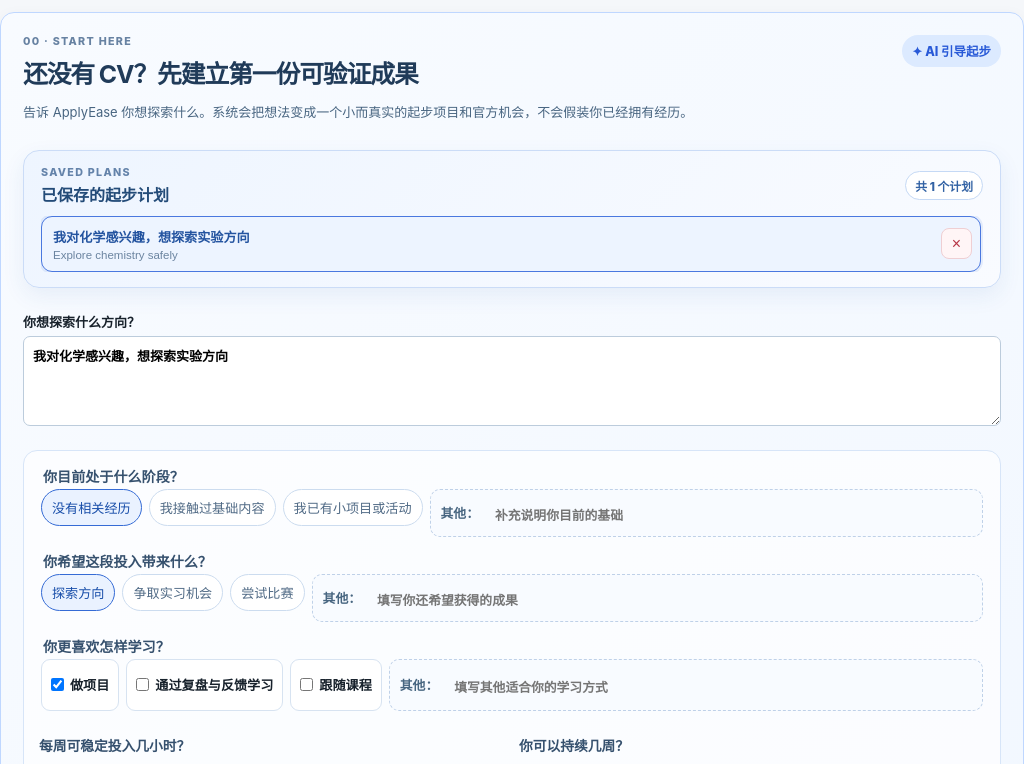
ResourcePlanPage › keeps multiple generated starter plans in the folder and supports deletion
The width and height of the screenshot is (1024, 764).
Check: the text "我对化学感兴趣，想探索实验方向" is shown, box [53,230,250,244]
Replace the text in the text box labelled "你想探索什么方向？" with "我对数学建模感兴趣，想从基础开始" at (512, 380), box [23,336,1001,426]
(page scrolled)
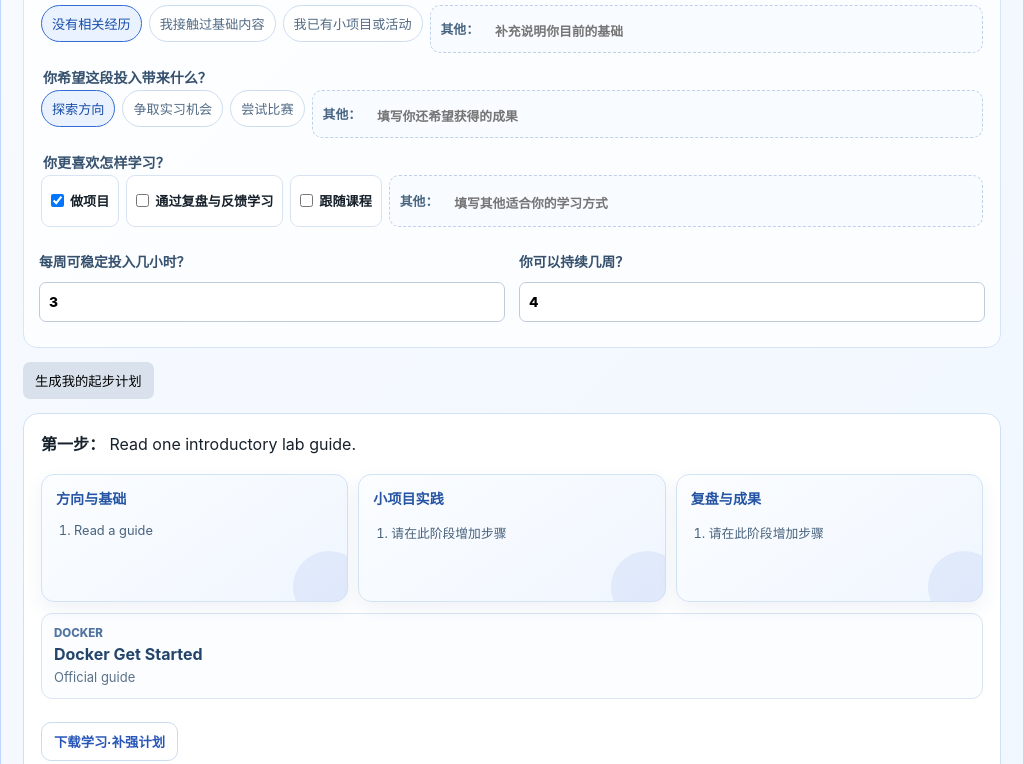
Click the button "生成我的起步计划" at (88, 380), box [23,362,154,398]
(page scrolled)
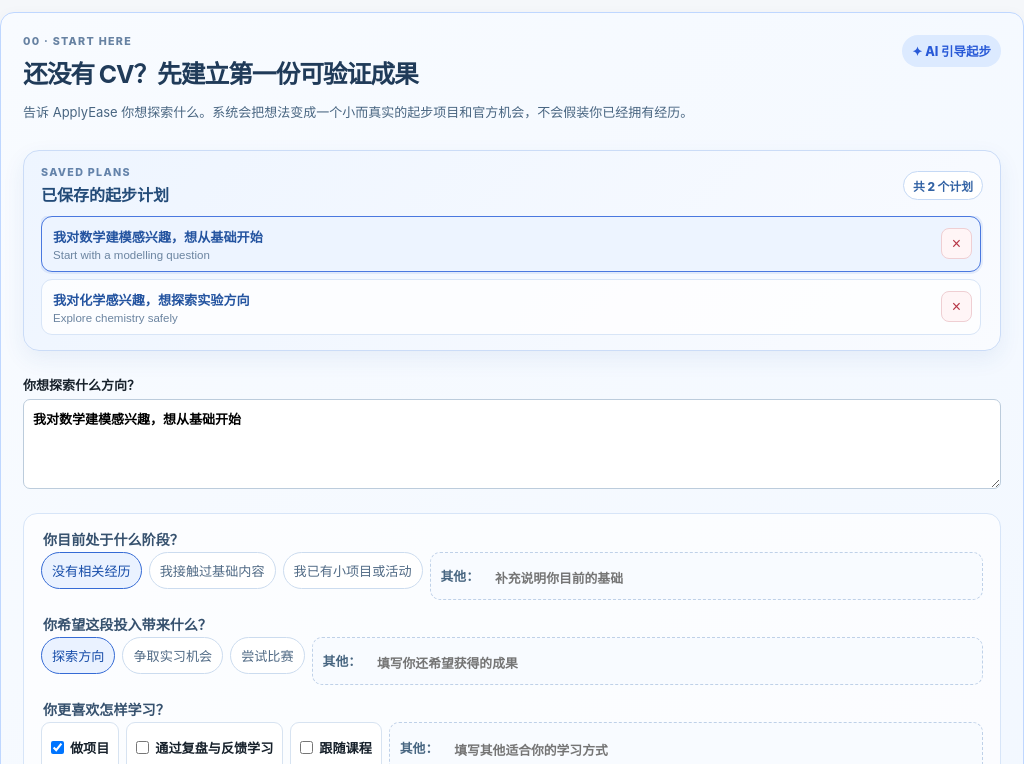
Check: the text "我对化学感兴趣，想探索实验方向" is shown, box [53,292,250,308]
Check: the text "我对数学建模感兴趣，想从基础开始" is shown, box [53,230,263,244]
Click the 2nd button "×" at (956, 306), box [941,291,972,322]
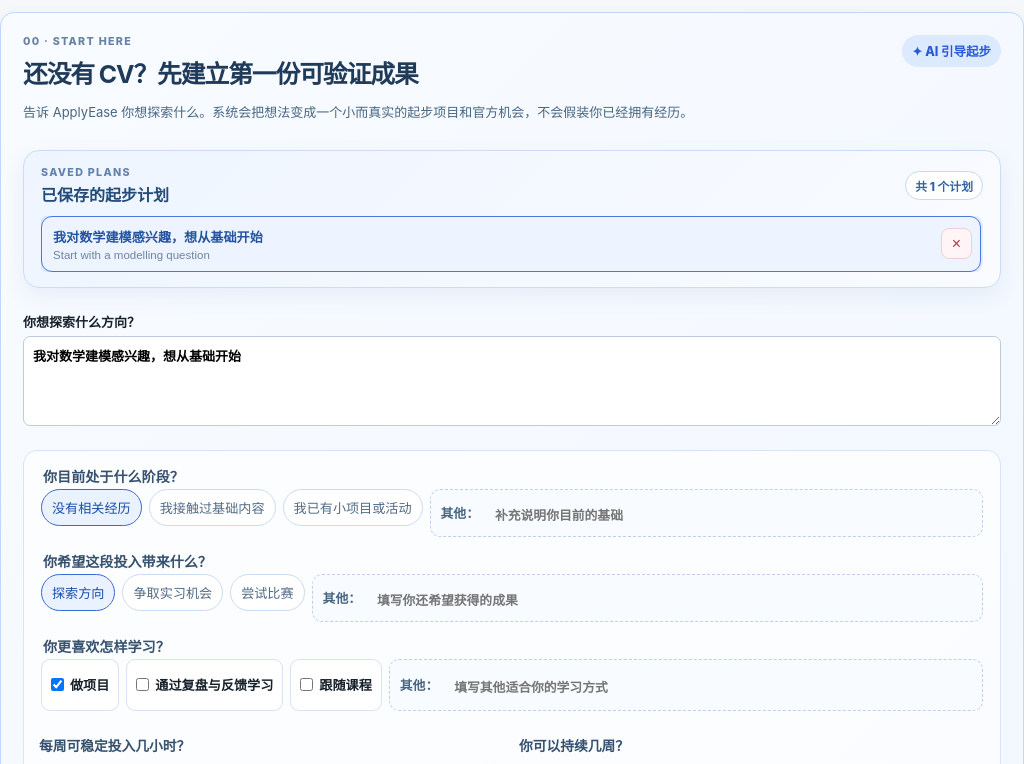
Check: the text "我对数学建模感兴趣，想从基础开始" is shown, box [53,230,263,244]
Check: the button "我对化学感兴趣，想探索实验方向" is gone
